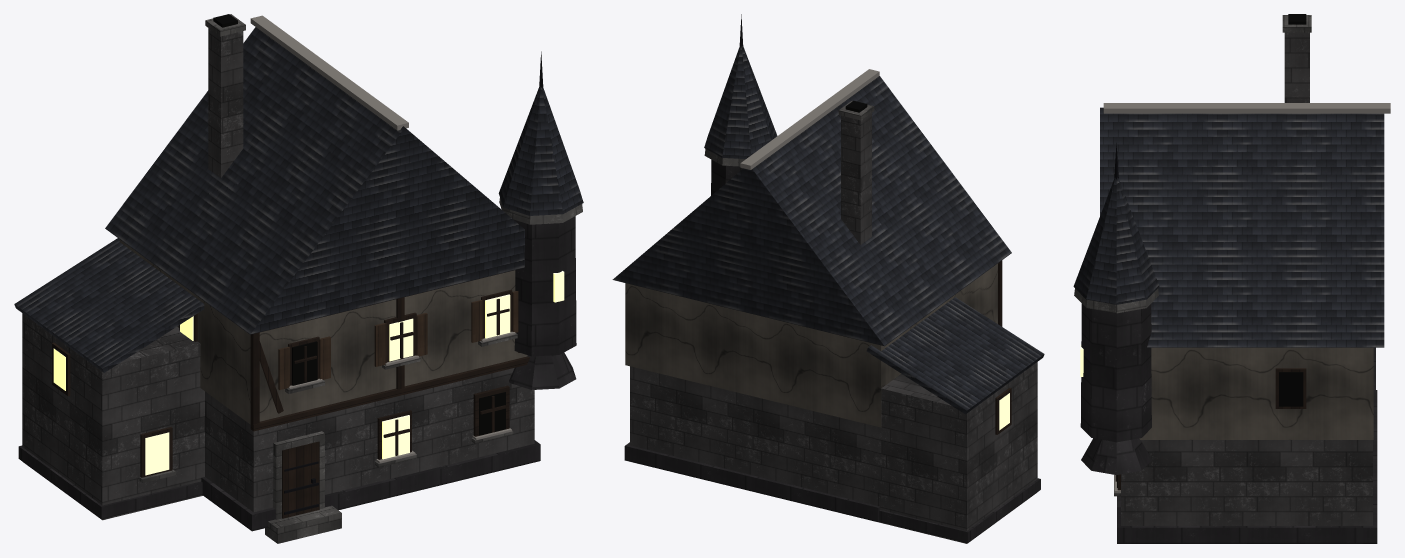
File: CasaB19.gltf
The picture shows the model from 3 angles, left to right: view 1: azimuth 30°, elevation 25°; view 2: azimuth 150°, elevation 25°; view 3: azimuth 270°, elevation 25°; orthographic projection. The views are drawn at different scales.
Visible parts, largest first — view 1: CasaB19; view 2: CasaB19; view 3: CasaB19.
Boxes of the visible parts, x1=… form: CasaB19: x1=14, y1=14, x2=583, y2=543; CasaB19: x1=612, y1=14, x2=1044, y2=543; CasaB19: x1=1073, y1=14, x2=1390, y2=543.
Size of the model in its own units: 14.71 by 14.32 by 9.6.
11 materials, 7 textured.
